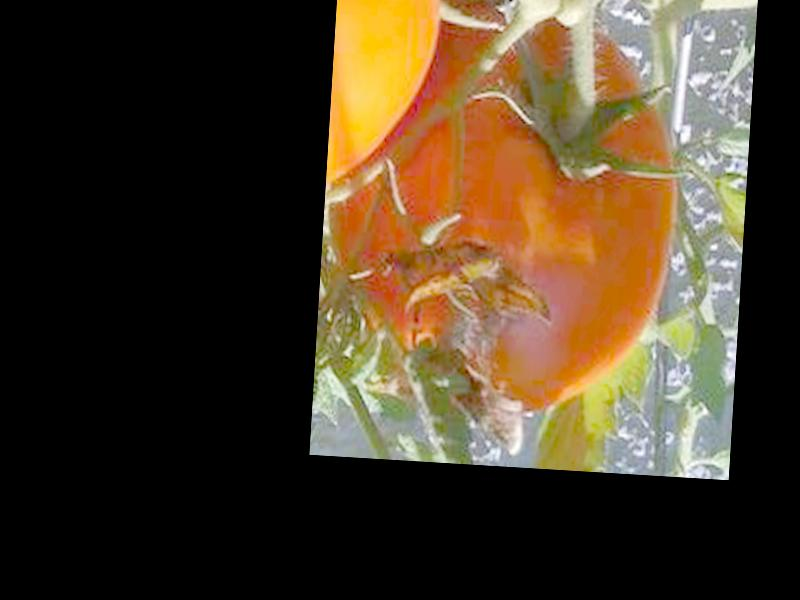Tomato: (323, 2, 688, 424)
